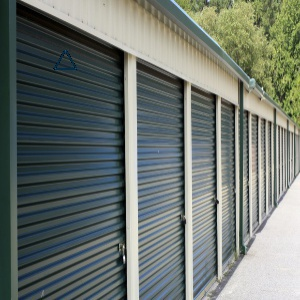triangle: (52, 47, 81, 73)
